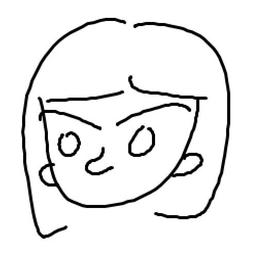ear: (171, 151, 207, 176), (37, 163, 56, 187)
empty_eye: (126, 125, 158, 160), (52, 130, 83, 160)
frowning_eyebrow: (112, 102, 190, 128), (42, 109, 102, 131)
nose: (85, 145, 115, 180)
